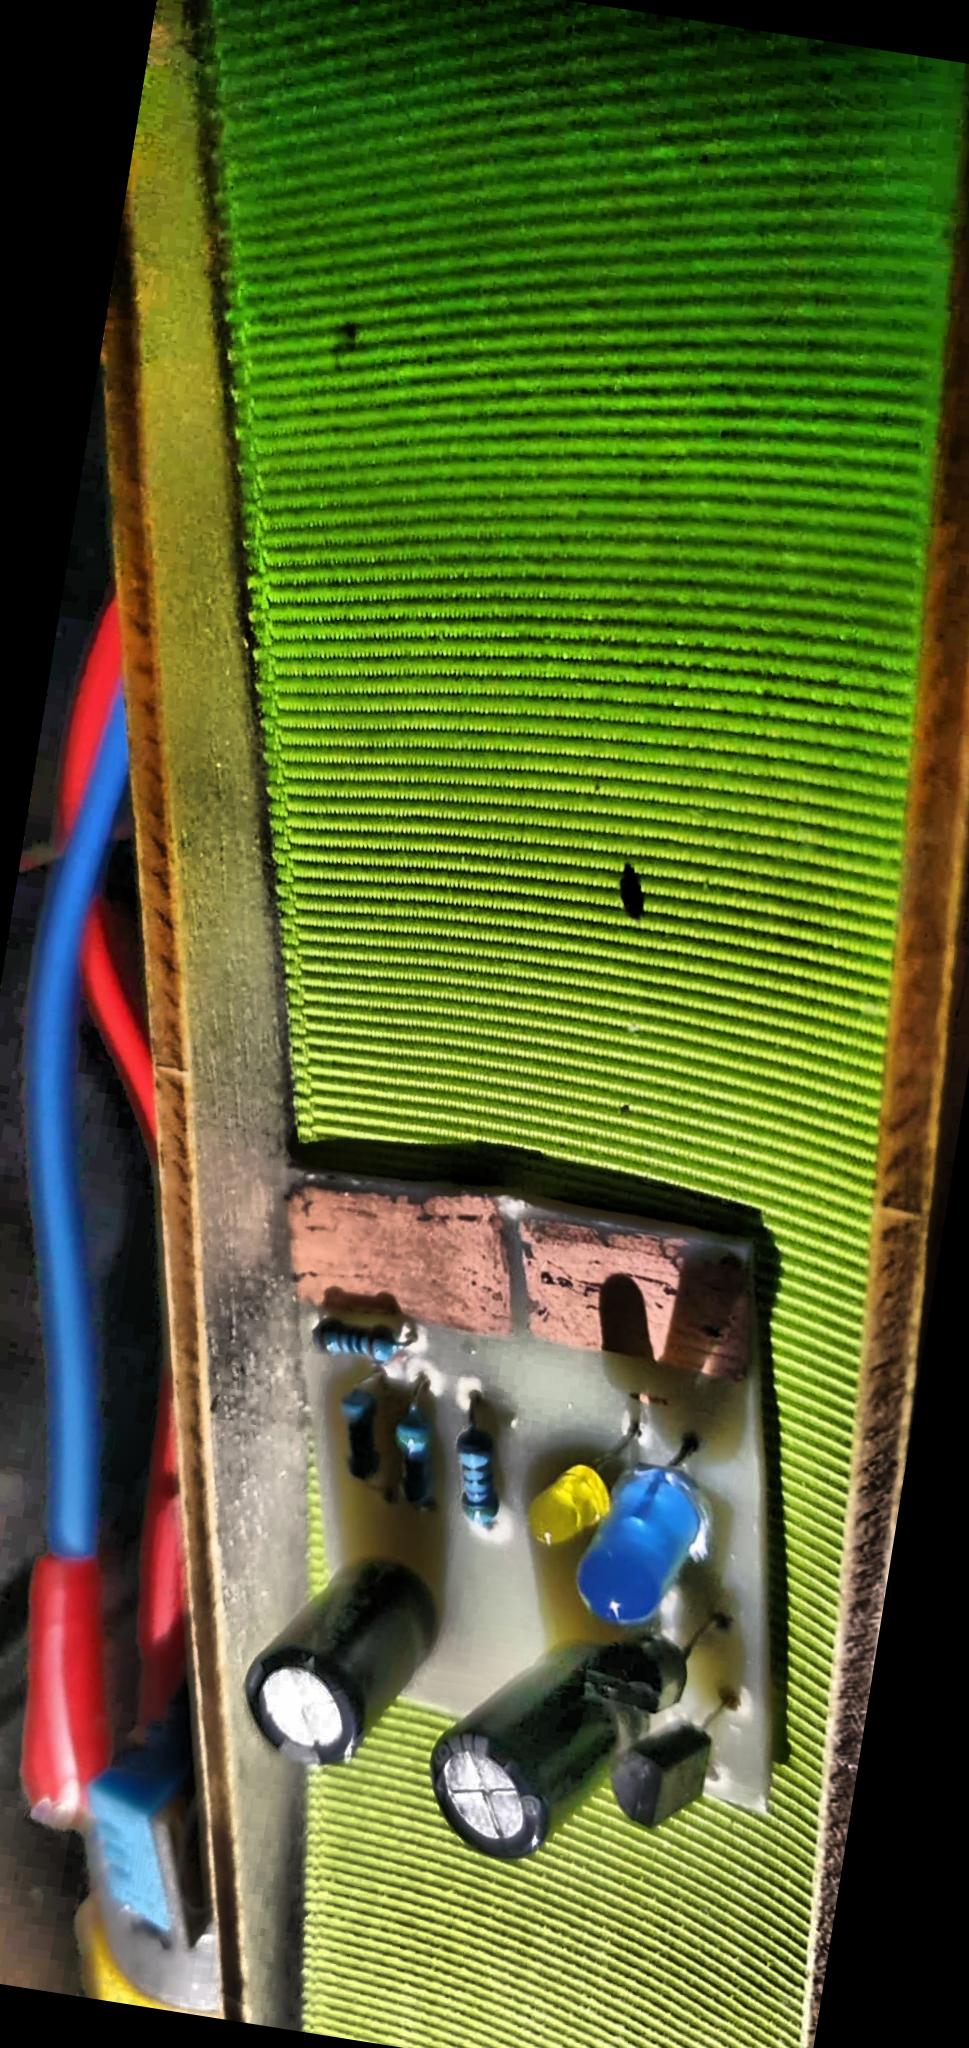IC: (491, 1182, 791, 1408), (240, 1153, 529, 1357)
